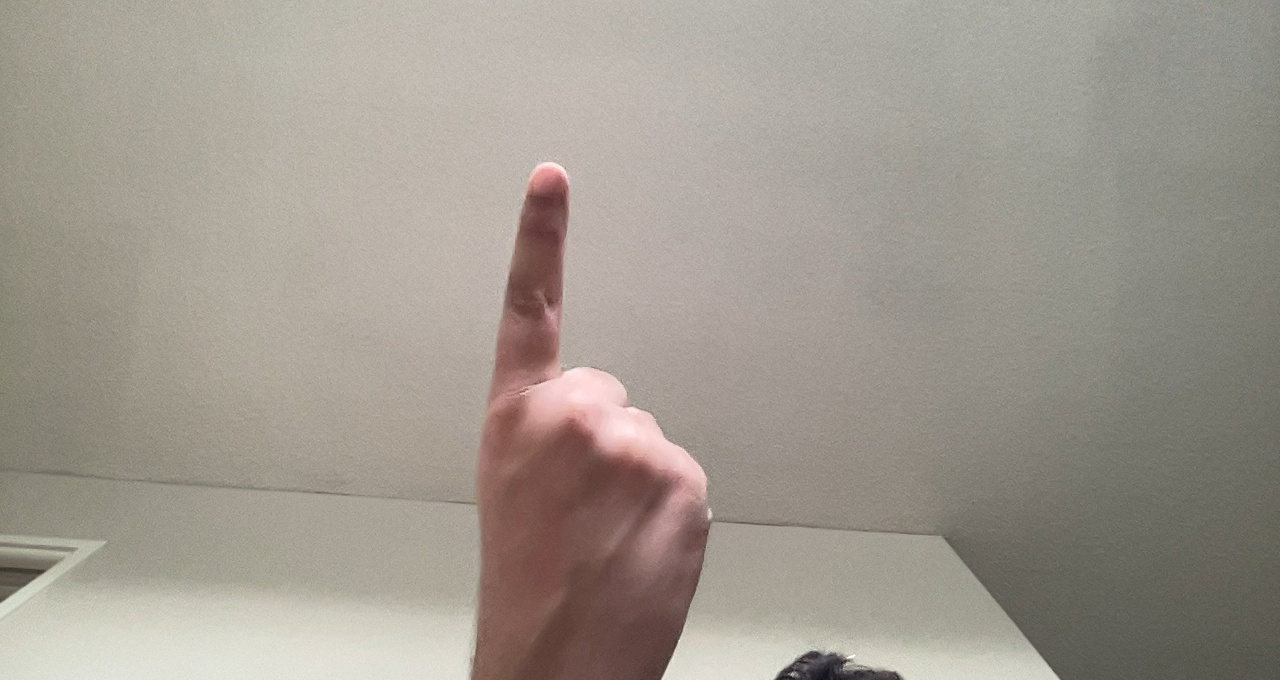fingerup: (477, 158, 721, 670)
